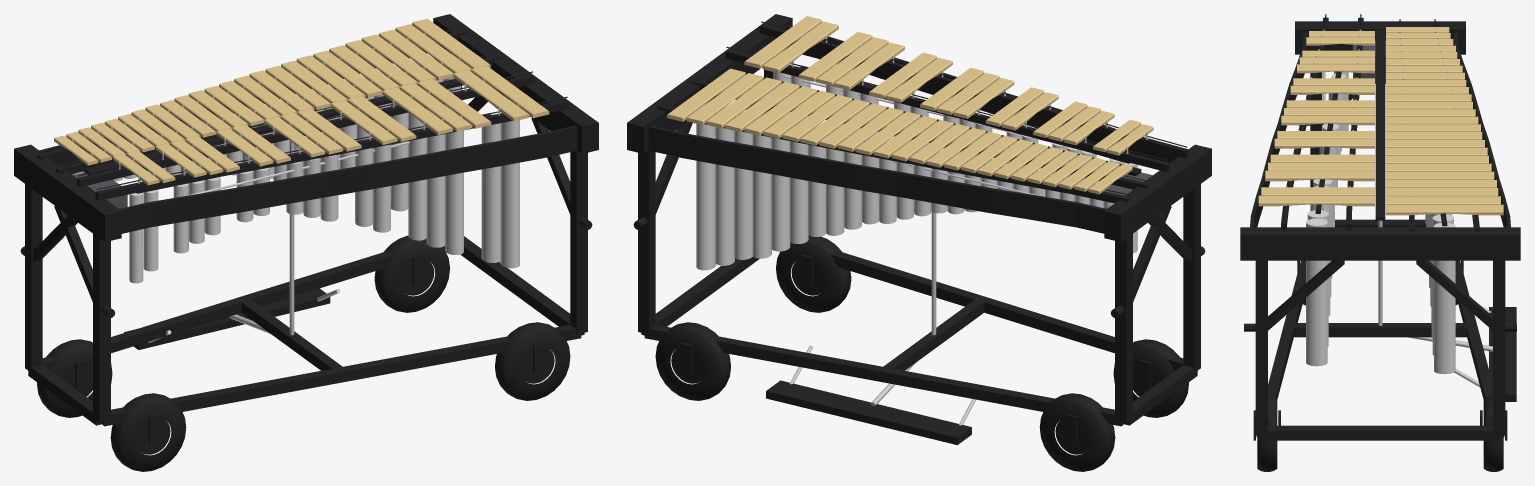
The model's file is vibraphone-3.5-gold.glb.
3 views of the same model, side by side, from view 1: azimuth 30°, elevation 25°; view 2: azimuth 150°, elevation 25°; view 3: azimuth 270°, elevation 25° (orthographic). The views are drawn at different scales.
Visible parts, largest first — view 1: frame, bars-gold, resonators-silver, artwork, metal; view 2: frame, bars-gold, resonators-silver, metal; view 3: frame, bars-gold, resonators-silver, metal.
Part boxes in pixels (x1,y1,x2,y2): frame: (14, 14, 598, 471); bars-gold: (54, 18, 549, 185); resonators-silver: (72, 77, 519, 283); artwork: (121, 127, 577, 233); metal: (72, 32, 518, 342); frame: (627, 14, 1211, 471); bars-gold: (667, 16, 1153, 194); resonators-silver: (696, 64, 1137, 270); metal: (697, 30, 1147, 425); frame: (1240, 14, 1520, 471); bars-gold: (1258, 27, 1503, 215); resonators-silver: (1306, 71, 1455, 374); metal: (1283, 29, 1492, 387).
Bounding box in the file's own units: 1.65 × 0.9789 × 0.9144.
